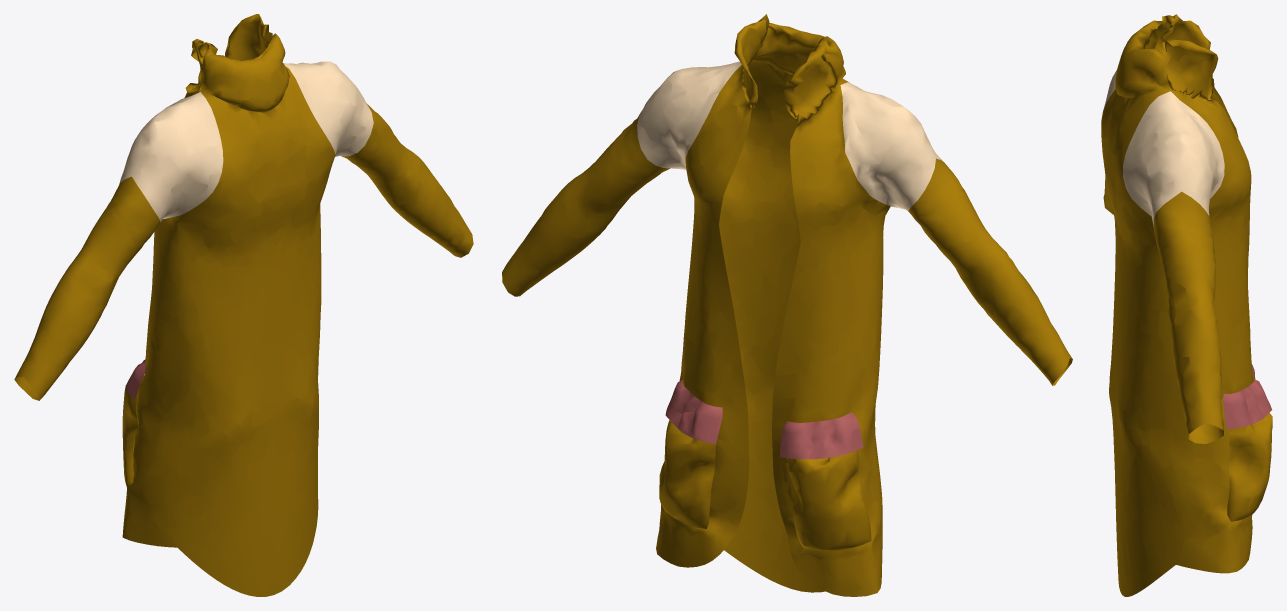
Rendered from Coat.fbx.
The picture shows the model from 3 angles, left to right: view 1: azimuth 30°, elevation 25°; view 2: azimuth 150°, elevation 25°; view 3: azimuth 270°, elevation 25°; orthographic projection. The views are drawn at different scales.
Parts seen in each view (by area): view 1: Pattern2D_618527; view 2: Pattern2D_618527; view 3: Pattern2D_618527.
Boxes of the visible parts, left/top/right/bottom form: Pattern2D_618527: left=14, top=14, right=473, bottom=596; Pattern2D_618527: left=502, top=14, right=1072, bottom=596; Pattern2D_618527: left=1101, top=14, right=1272, bottom=596.
Size of the model in its own units: 11 by 11.89 by 3.29.
